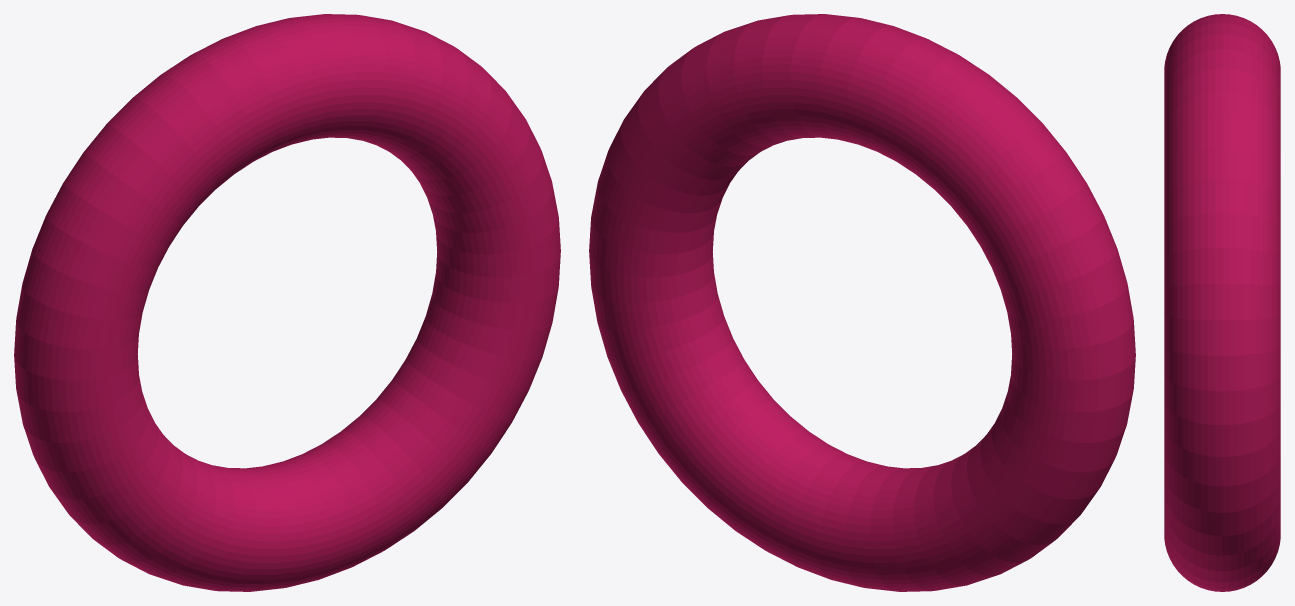
3 renders of one model, left to right at view 1: azimuth 30°, elevation 25°; view 2: azimuth 150°, elevation 25°; view 3: azimuth 270°, elevation 25°, orthographic. The views are drawn at different scales.
Parts seen in each view (by area): view 1: world; view 2: world; view 3: world.
Boxes of the visible parts, box(x1,y1,x2,y2) form: world: box(14, 14, 560, 591); world: box(589, 14, 1135, 591); world: box(1164, 14, 1280, 591).
Size of the model in its own units: 37.6 by 37.53 by 7.59.
